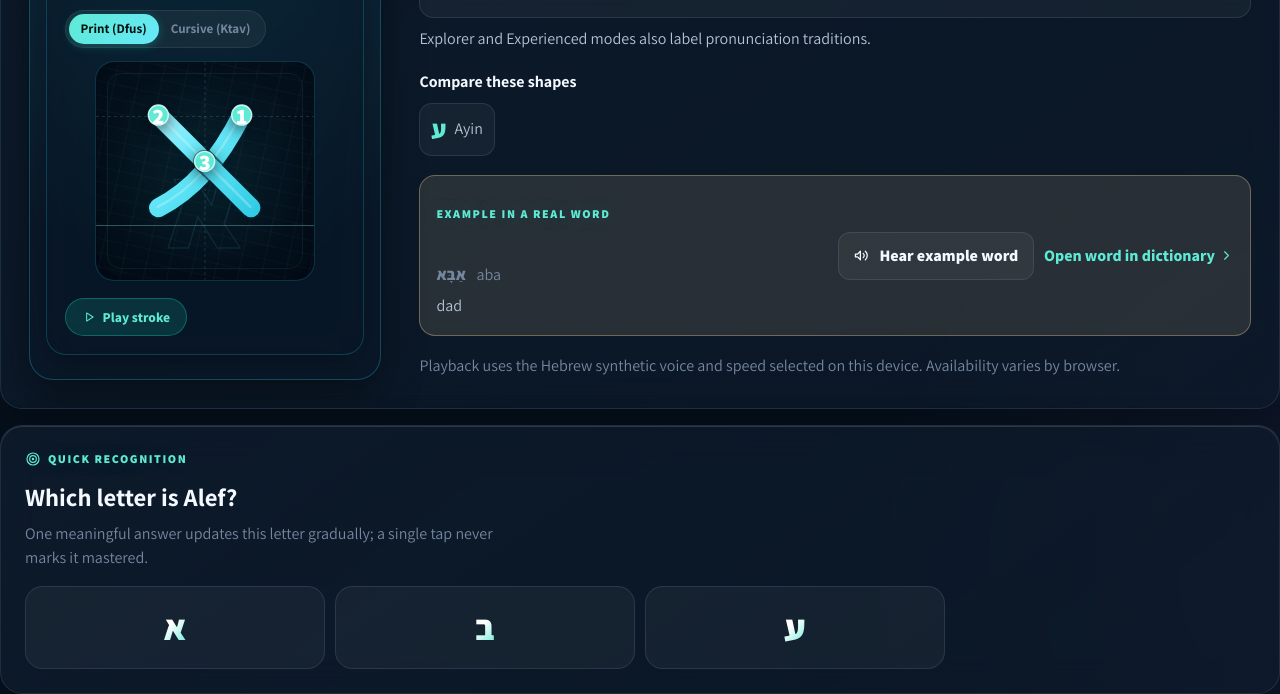
Scenario: AlphabetStudio › submits a server-derived recognition answer with one idempotency key
(page scrolled)
Click the button named "Option 1: א" at coordinates (175, 628), box 25,586 -> 325,669
(page scrolled)
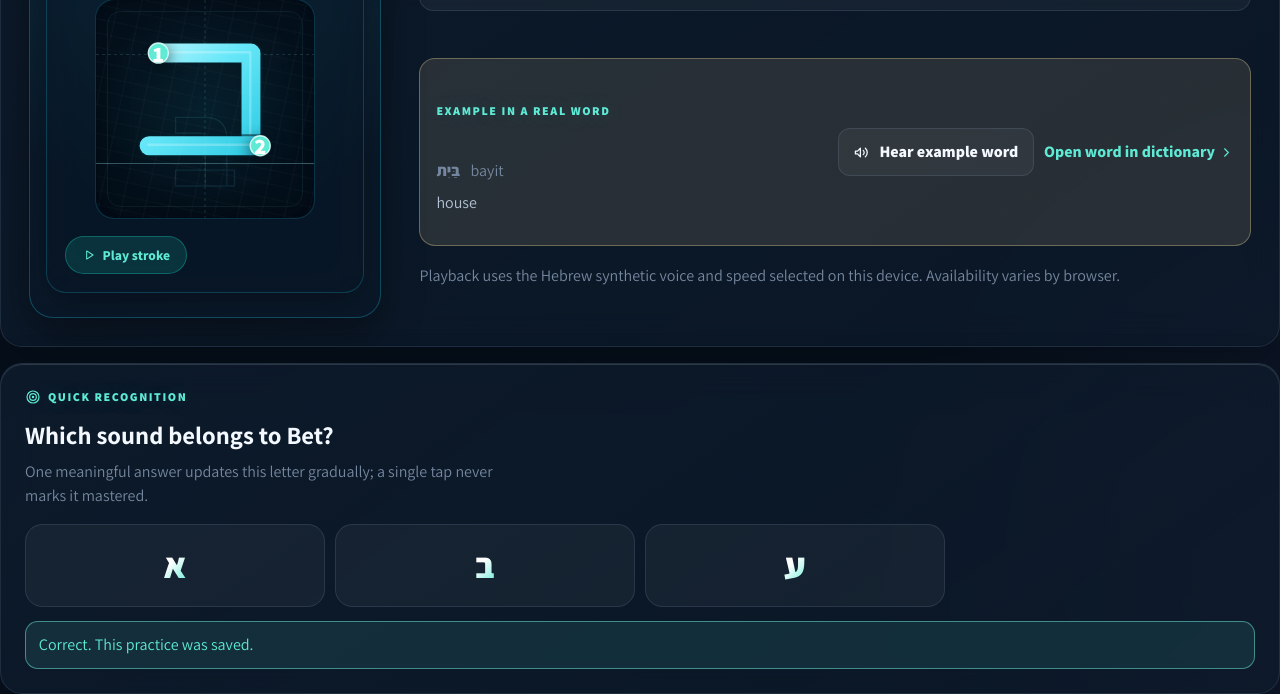
Result: the text "Correct. This practice was saved." is shown at 25,621 -> 1255,669
